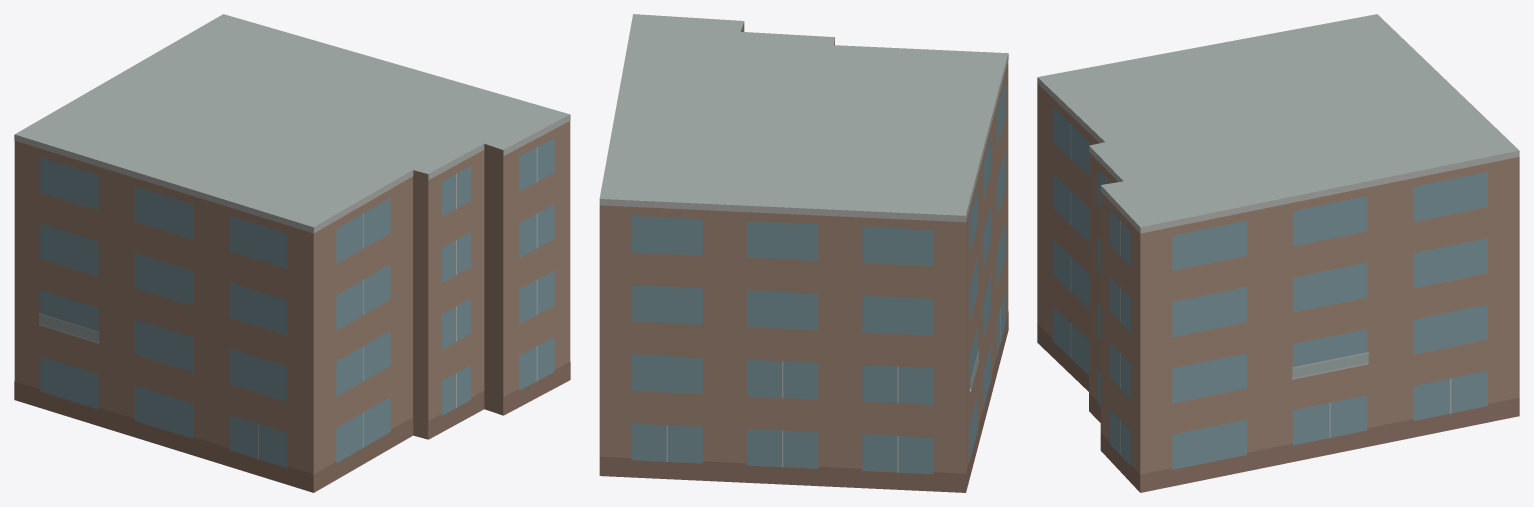
The model's file is survey-upis-32602311.glb.
3 views of the same model, side by side, from view 1: azimuth 30°, elevation 25°; view 2: azimuth 150°, elevation 25°; view 3: azimuth 270°, elevation 25° (orthographic). The views are drawn at different scales.
Visible parts, largest first — view 1: survey-upis-32602311.tmp; view 2: survey-upis-32602311.tmp; view 3: survey-upis-32602311.tmp.
Part boxes in pixels (x1,y1,x2,y2): survey-upis-32602311.tmp: (14,14,570,492); survey-upis-32602311.tmp: (599,14,1008,492); survey-upis-32602311.tmp: (1037,14,1519,492).
Bounding box in the file's own units: 18.11 × 10.5 × 17.3.
